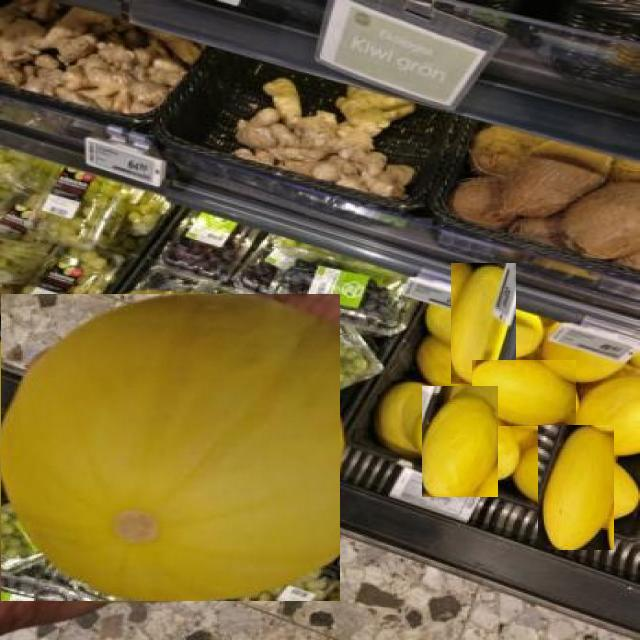Honeydew: (0, 294, 340, 601), (537, 425, 614, 550), (422, 386, 498, 496), (451, 264, 516, 384), (471, 359, 576, 426)
